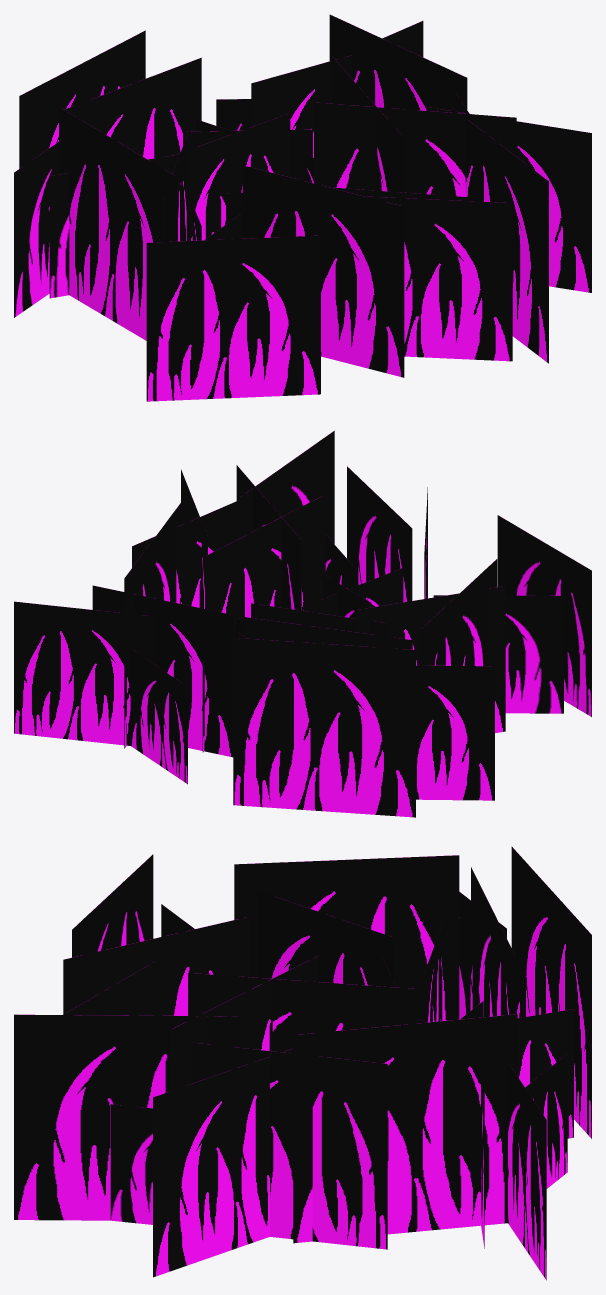
The model's file is grass.glb.
3 views of the same model, one above another, from view 1: azimuth 30°, elevation 25°; view 2: azimuth 150°, elevation 25°; view 3: azimuth 270°, elevation 25° (orthographic). The views are drawn at different scales.
Parts seen in each view (by area): view 1: grass; view 2: grass; view 3: grass.
Boxes of the visible parts, left/top/right/bottom form: grass: left=14, top=14, right=591, bottom=401; grass: left=14, top=430, right=591, bottom=817; grass: left=14, top=846, right=591, bottom=1280.
Bounding box in the file's own units: 2.58 × 0.9898 × 2.47.
1 material, 1 textured.
